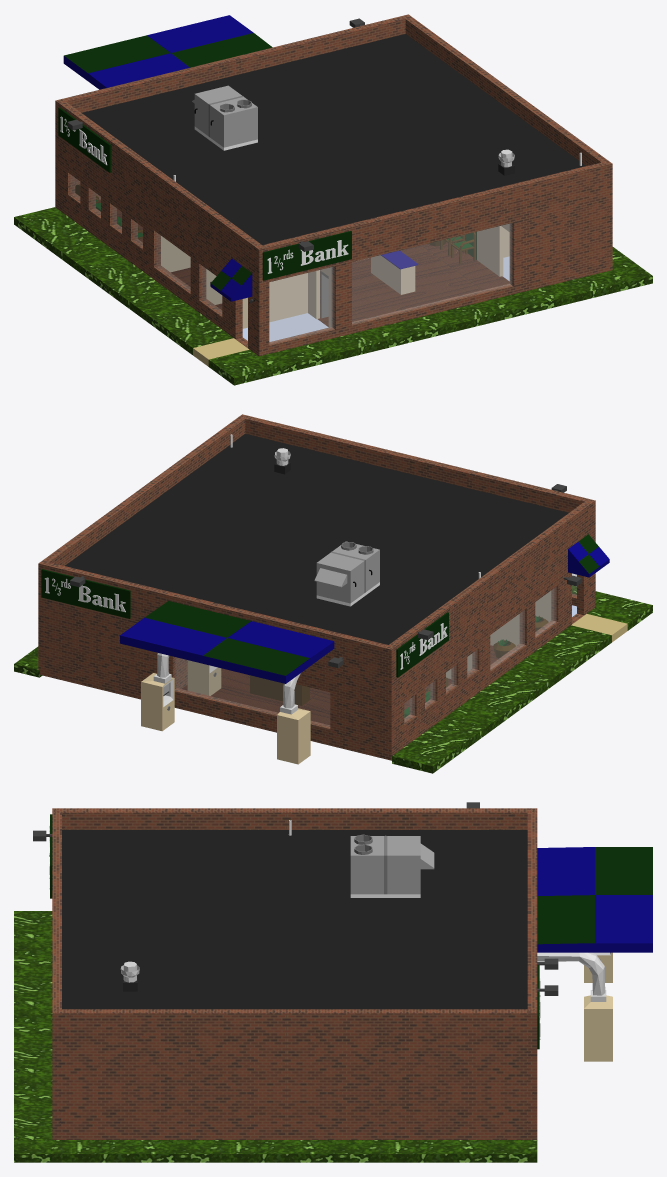
Rendered from 1-2-3 Bank.glb.
3 renders of one model, top to bottom at view 1: azimuth 30°, elevation 25°; view 2: azimuth 150°, elevation 25°; view 3: azimuth 270°, elevation 25°, orthographic. The views are drawn at different scales.
Parts seen in each view (by area): view 1: Roof, Walls, Ground, Windows, Overhang, Floor, Int Walls, Sign, RTU, Tables, Chairs; view 2: Roof, Walls, Ground, Overhang, Windows, Pnuematic System, Sign, RTU, Floor, Int Walls, Tables, Lights Ext; view 3: Roof, Walls, Ground, Overhang, RTU, Pnuematic System, Lights Ext, Sign.
Boxes of the visible parts, x1,y1,x2,y2 form: Roof: [82, 34, 585, 244]; Walls: [55, 14, 612, 356]; Ground: [14, 207, 652, 385]; Windows: [70, 175, 511, 344]; Overhang: [63, 15, 272, 301]; Floor: [99, 200, 509, 341]; Int Walls: [161, 224, 509, 328]; Sign: [58, 107, 351, 280]; RTU: [192, 85, 257, 150]; Tables: [371, 250, 418, 294]; Chairs: [75, 184, 475, 263]; Roof: [65, 434, 568, 644]; Walls: [38, 414, 595, 760]; Ground: [14, 585, 652, 773]; Overhang: [120, 534, 609, 683]; Windows: [175, 573, 576, 727]; Pnuematic System: [141, 653, 310, 764]; Sign: [41, 569, 448, 677]; RTU: [314, 541, 379, 606]; Floor: [182, 605, 576, 724]; Int Walls: [446, 591, 551, 678]; Tables: [250, 675, 309, 705]; Lights Ext: [70, 484, 582, 667]; Roof: [62, 830, 527, 1009]; Walls: [52, 808, 537, 1139]; Ground: [14, 911, 537, 1162]; Overhang: [537, 847, 652, 952]; RTU: [350, 834, 434, 897]; Pnuematic System: [537, 952, 612, 1061]; Lights Ext: [33, 802, 558, 995]; Sign: [49, 814, 540, 1049].
Size of what is drawn, in the model's own units: 18.07 by 5.64 by 20.08.
61 materials, 3 textured.
